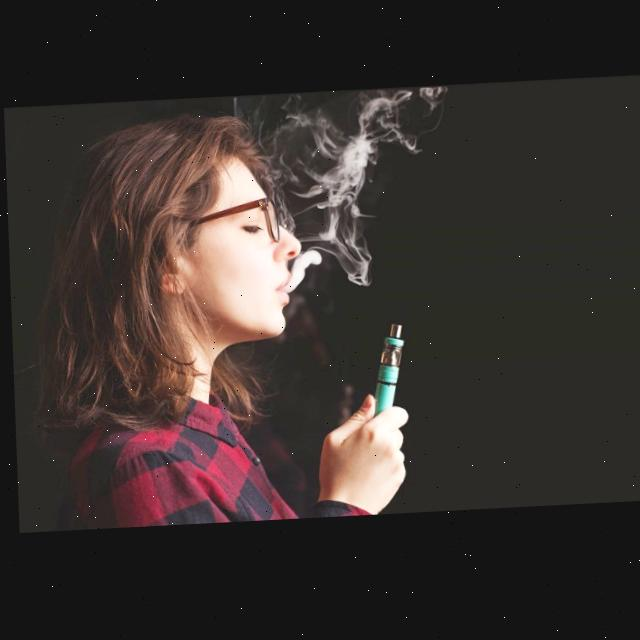vape: (368, 327, 403, 420)
